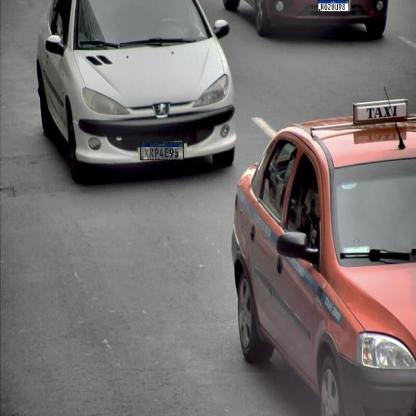PlacaM: (140, 142, 184, 160), (318, 0, 349, 12)
